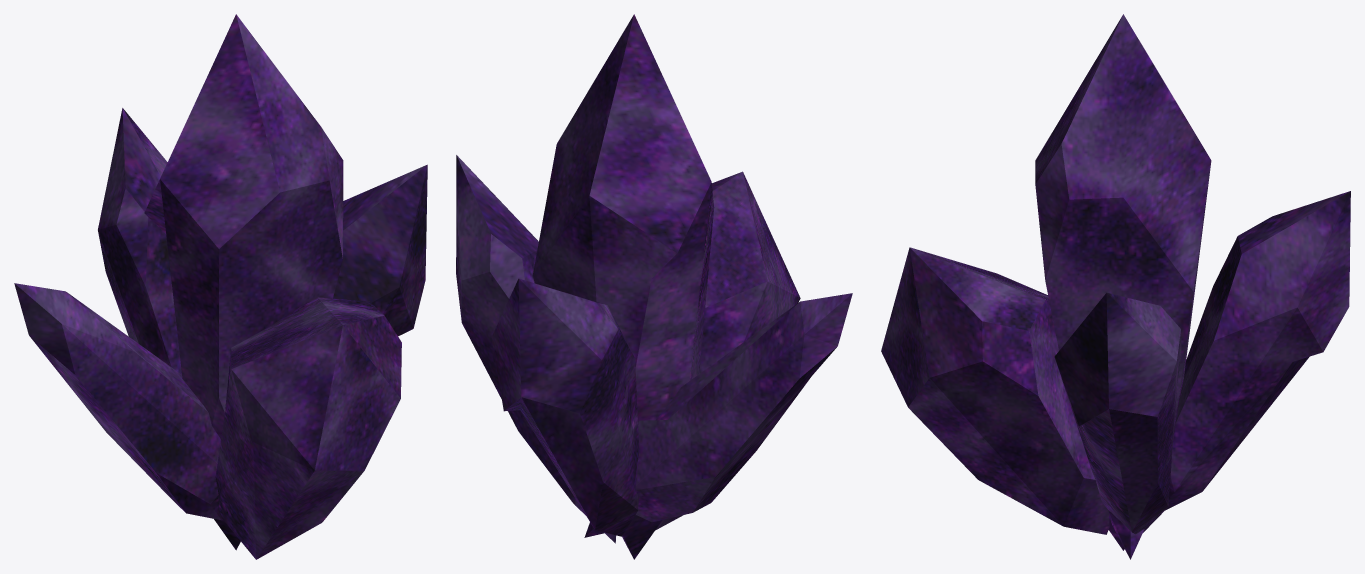
The model's file is Gem.fbx.
The picture shows the model from 3 angles, left to right: view 1: azimuth 30°, elevation 25°; view 2: azimuth 150°, elevation 25°; view 3: azimuth 270°, elevation 25°; orthographic projection.
Parts seen in each view (by area): view 1: pCube6; view 2: pCube6; view 3: pCube6.
Part boxes in pixels (<box>): pCube6: <box>14,14,427,559</box>; pCube6: <box>456,14,852,559</box>; pCube6: <box>881,14,1350,559</box>.
Bounding box in the file's own units: 11.48 × 14.65 × 11.62.
Materials: 1 (1 with a texture image).
